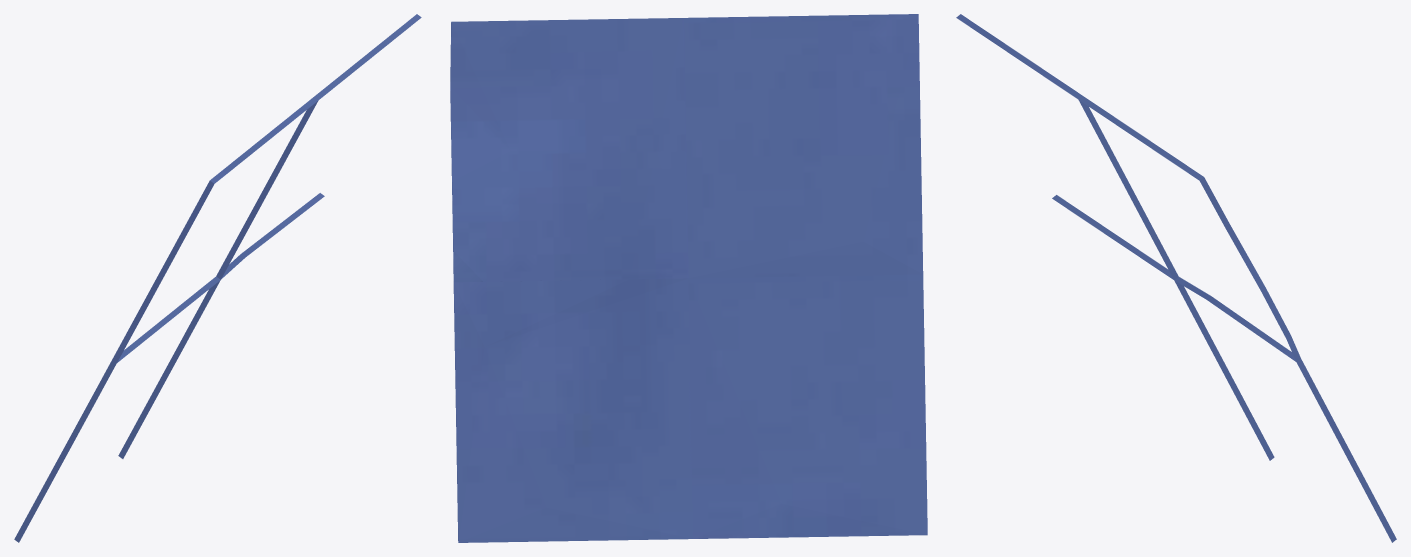
3 views of the same model, side by side, from view 1: azimuth 30°, elevation 25°; view 2: azimuth 150°, elevation 25°; view 3: azimuth 270°, elevation 25° (orthographic). The views are drawn at different scales.
Bounding box in the file's own units: 19652 × 17661 × 16998.
1 material, 1 textured.
